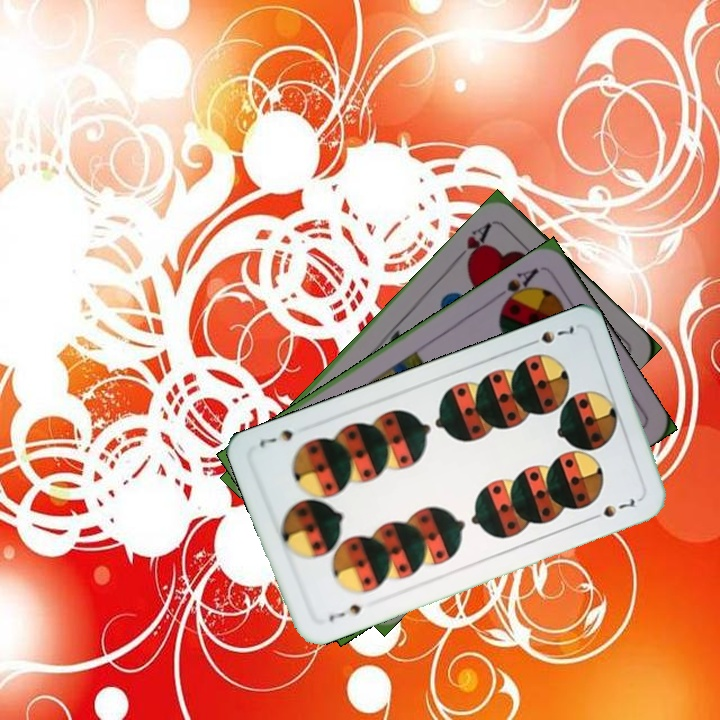HA: (449, 218, 495, 269)
S7: (522, 322, 577, 349), (325, 600, 364, 625)
SA: (490, 263, 541, 310)
